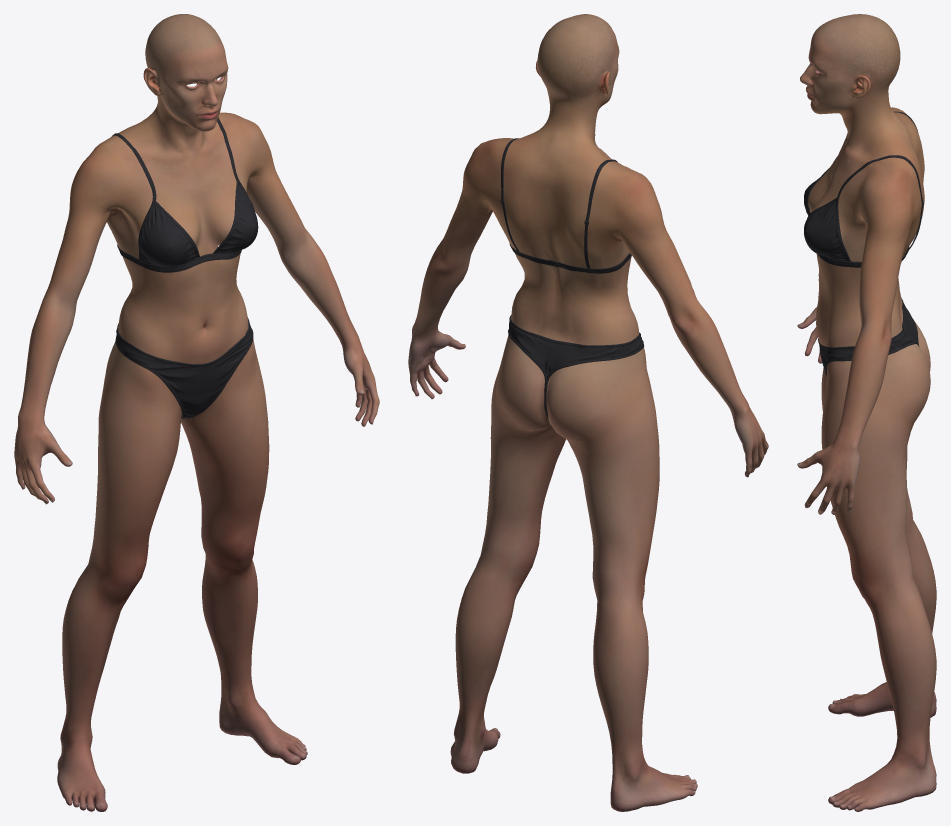
The model's file is skin-lite.glb.
3 renders of one model, left to right at view 1: azimuth 30°, elevation 25°; view 2: azimuth 150°, elevation 25°; view 3: azimuth 270°, elevation 25°, orthographic. The views are drawn at different scales.
Visible parts, largest first — view 1: Body_m, Female_Clothes_m; view 2: Body_m, Female_Clothes_m; view 3: Body_m, Female_Clothes_m.
Boxes of the visible parts, bbox=[...] form: Body_m: bbox=[14, 14, 379, 811]; Female_Clothes_m: bbox=[111, 117, 258, 418]; Body_m: bbox=[408, 14, 768, 811]; Female_Clothes_m: bbox=[500, 138, 644, 418]; Body_m: bbox=[797, 14, 936, 811]; Female_Clothes_m: bbox=[804, 111, 923, 376].
Bounding box in the file's own units: 0.8145 × 1.69 × 0.2875.
2 materials, 1 textured.
